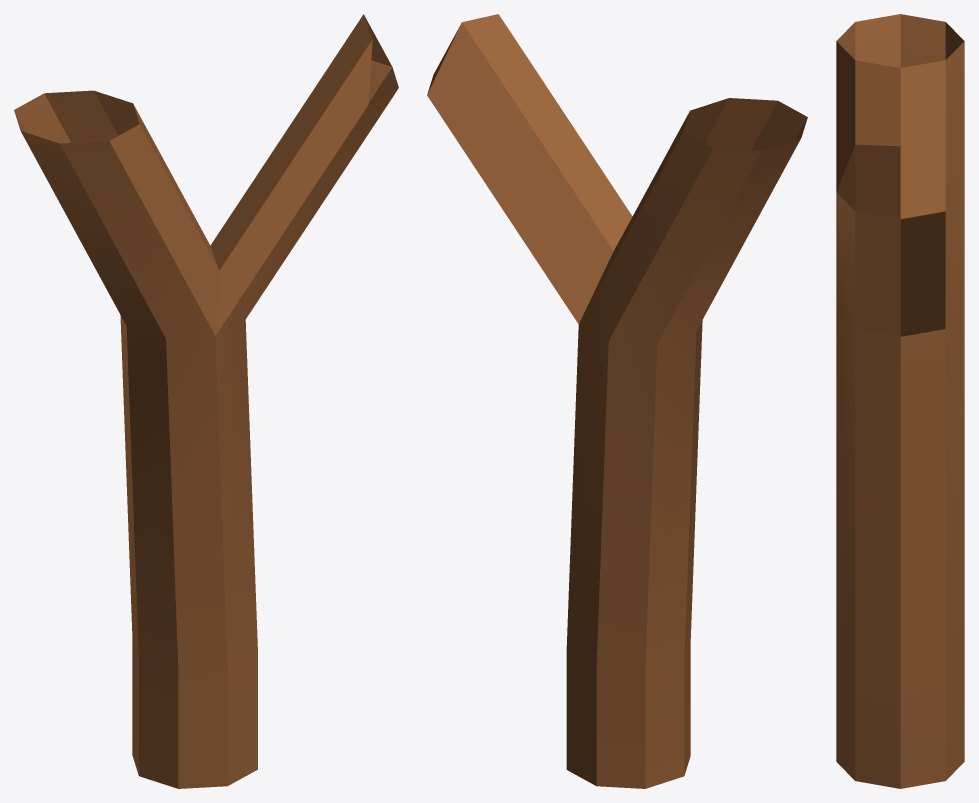
The model's file is tree_miki_B.fbx.
3 views of the same model, side by side, from view 1: azimuth 30°, elevation 25°; view 2: azimuth 150°, elevation 25°; view 3: azimuth 270°, elevation 25° (orthographic).
Visible parts, largest first — view 1: tree_miki_B; view 2: tree_miki_B; view 3: tree_miki_B.
Part boxes in pixels (<box>): tree_miki_B: <box>14,14,398,788</box>; tree_miki_B: <box>427,14,807,788</box>; tree_miki_B: <box>836,14,964,788</box>.
Bounding box in the file's own units: 25.1 × 45.61 × 7.6.
